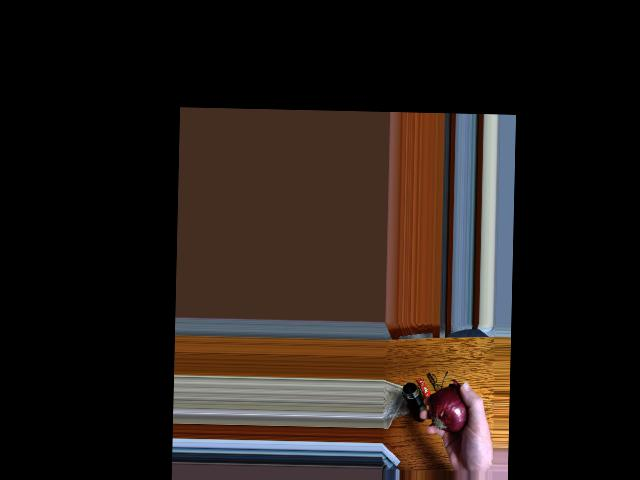onion: (428, 388, 465, 425)
